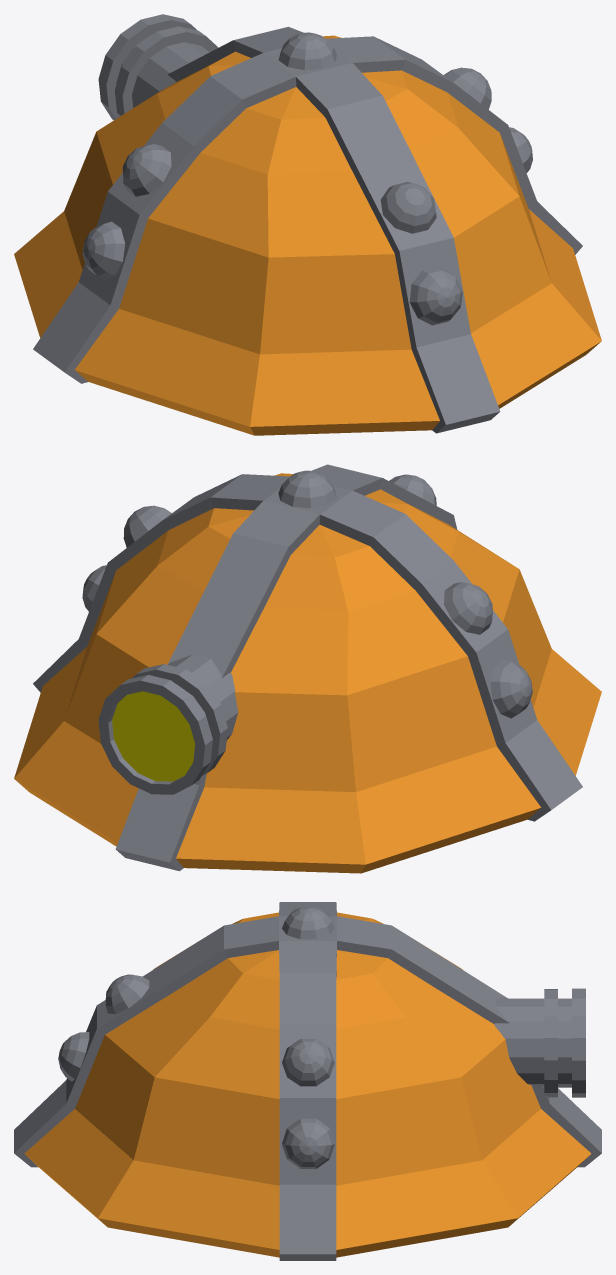
The model's file is CascoLigero.fbx.
3 views of the same model, one above another, from view 1: azimuth 30°, elevation 25°; view 2: azimuth 150°, elevation 25°; view 3: azimuth 270°, elevation 25° (orthographic). The views are drawn at different scales.
Parts seen in each view (by area): view 1: CascoLigero; view 2: CascoLigero; view 3: CascoLigero.
Part boxes in pixels (x1,y1,x2,y2): CascoLigero: (14,14,601,435); CascoLigero: (14,464,601,873); CascoLigero: (14,902,601,1260).
Bounding box in the file's own units: 49.52 × 25.35 × 54.64.
